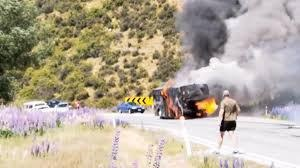fire: (194, 94, 217, 114)
